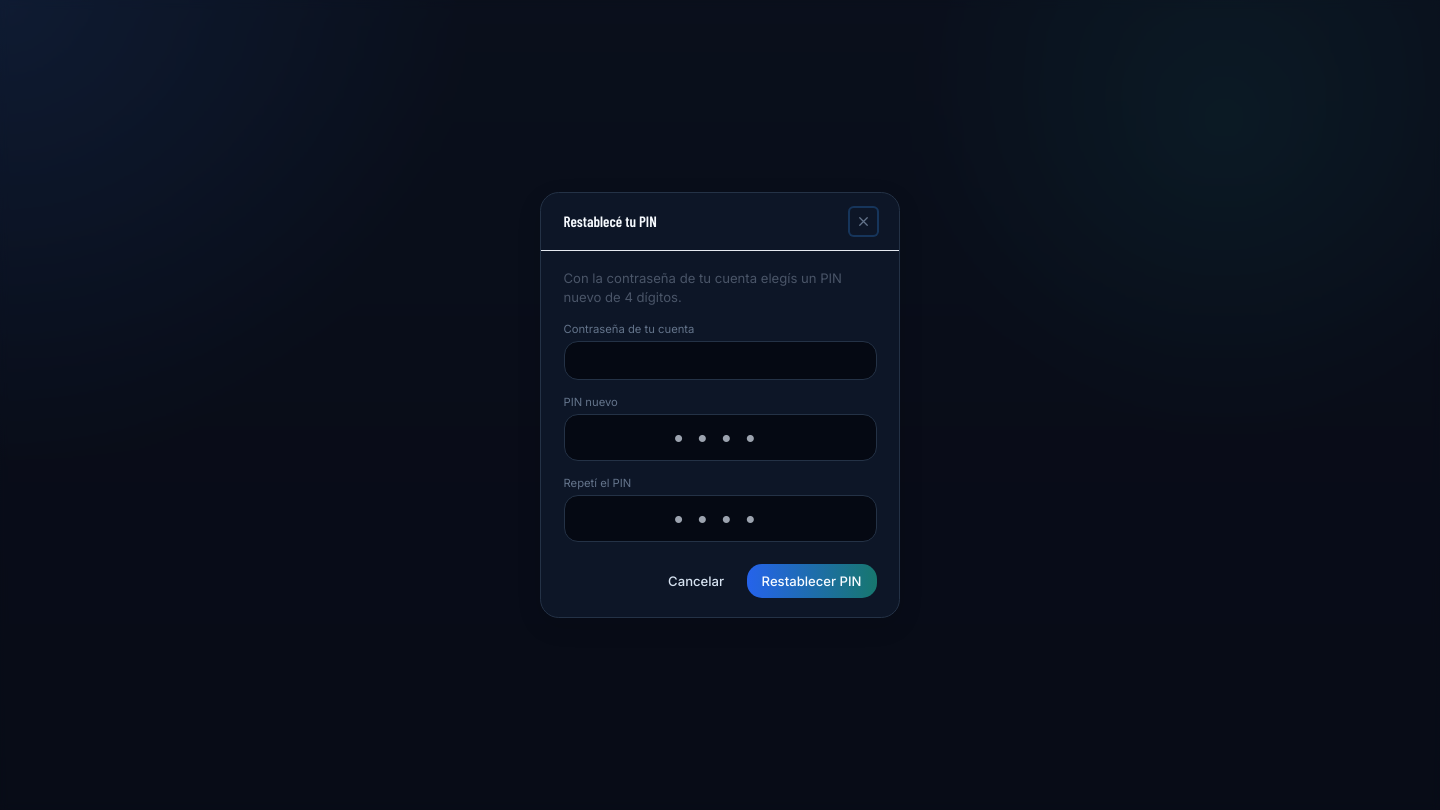
Test: una contraseña incorrecta se dice como tal y no cierra el modal
Check: the heading "Restablecé tu PIN" is shown, box top-left (564, 210), bottom-right (657, 233)
Step 1. Type "mala" into the password field labelled "Contraseña de tu cuenta" → (720,360), box top-left (564, 341), bottom-right (876, 380)
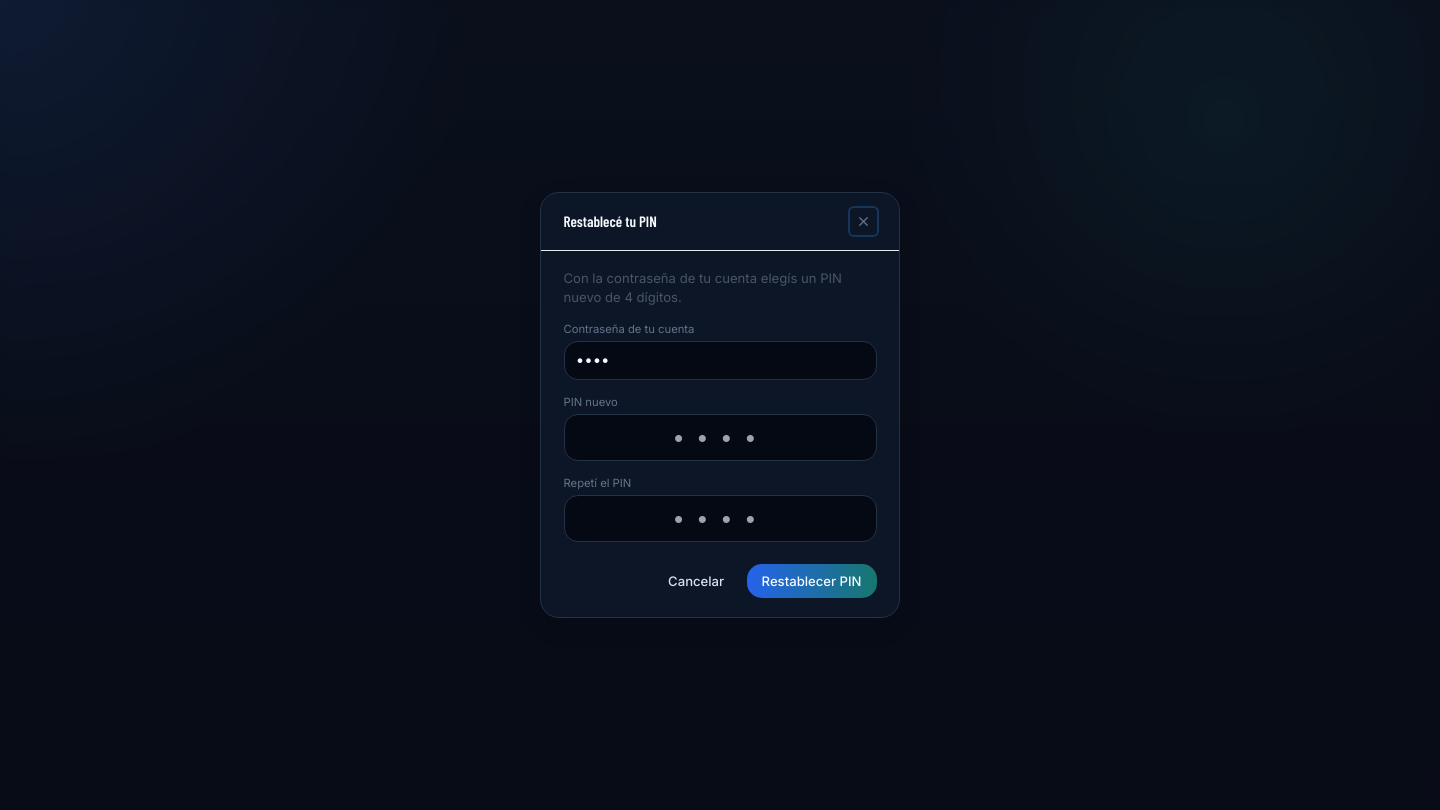
Step 2. Type "4321" into the password field labelled "PIN nuevo" → (720,437), box top-left (564, 414), bottom-right (876, 461)
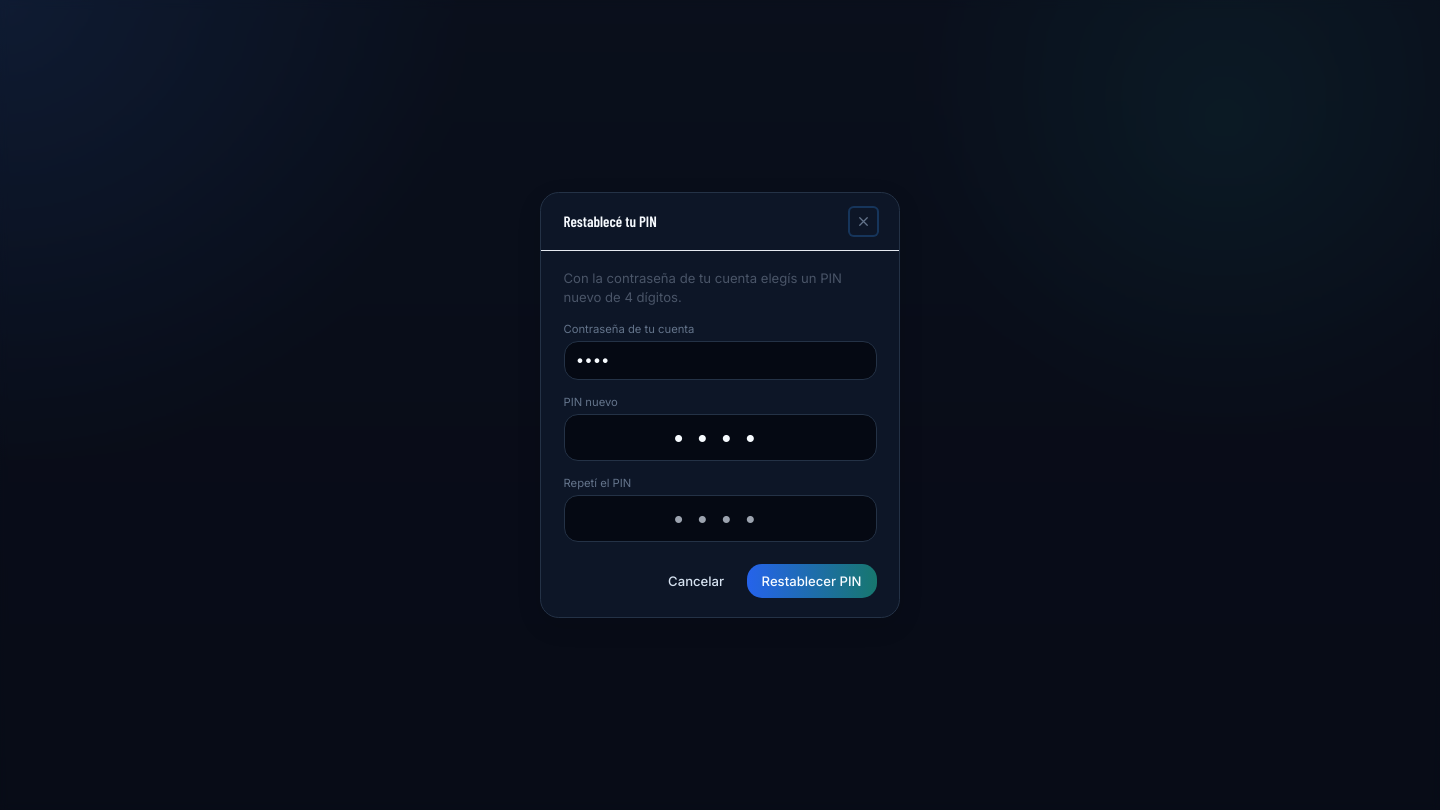
Step 3. Type "4321" into the password field labelled "Repetí el PIN" → (720,518), box top-left (564, 495), bottom-right (876, 542)
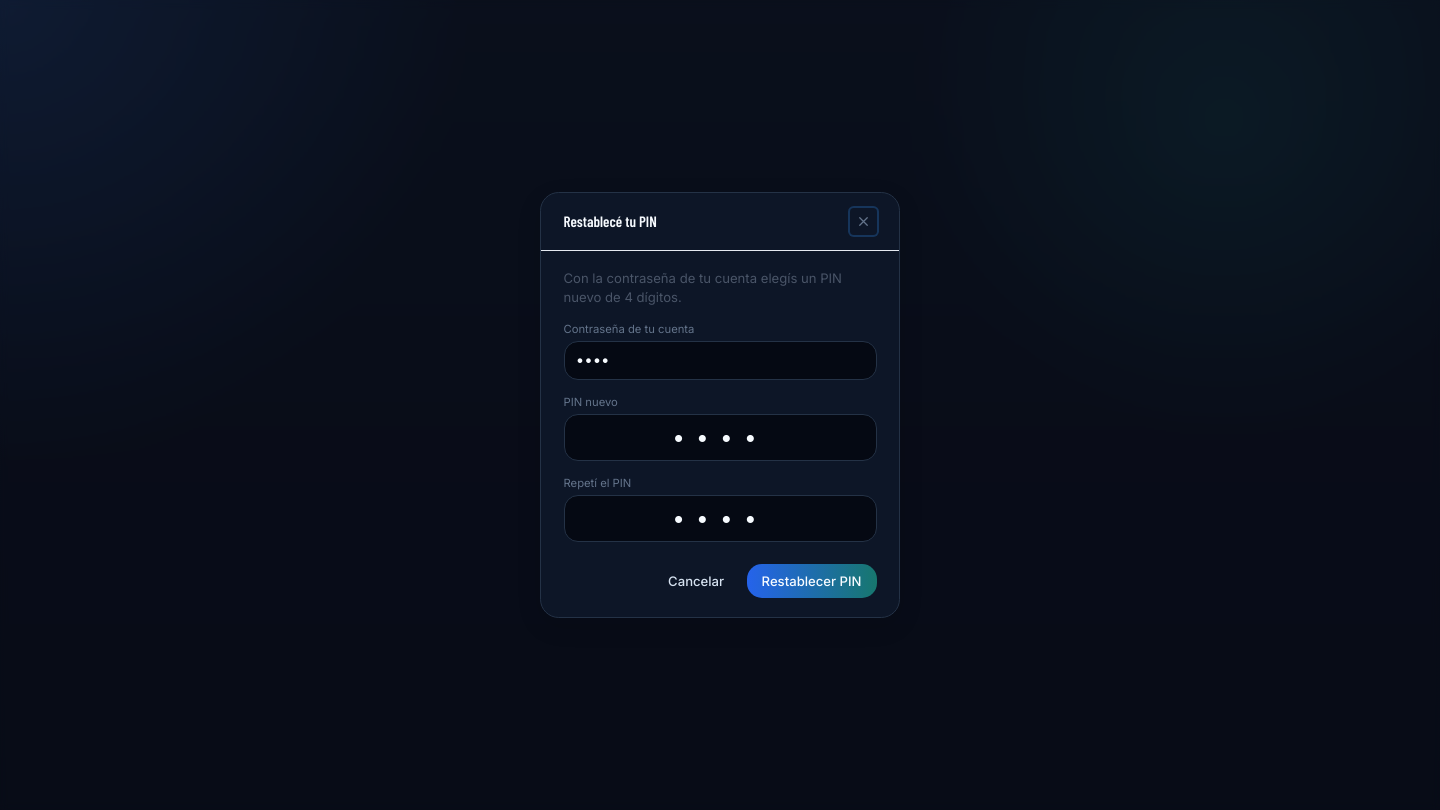
Step 4. Click the button "Restablecer PIN" → (812,581), box top-left (747, 564), bottom-right (876, 598)
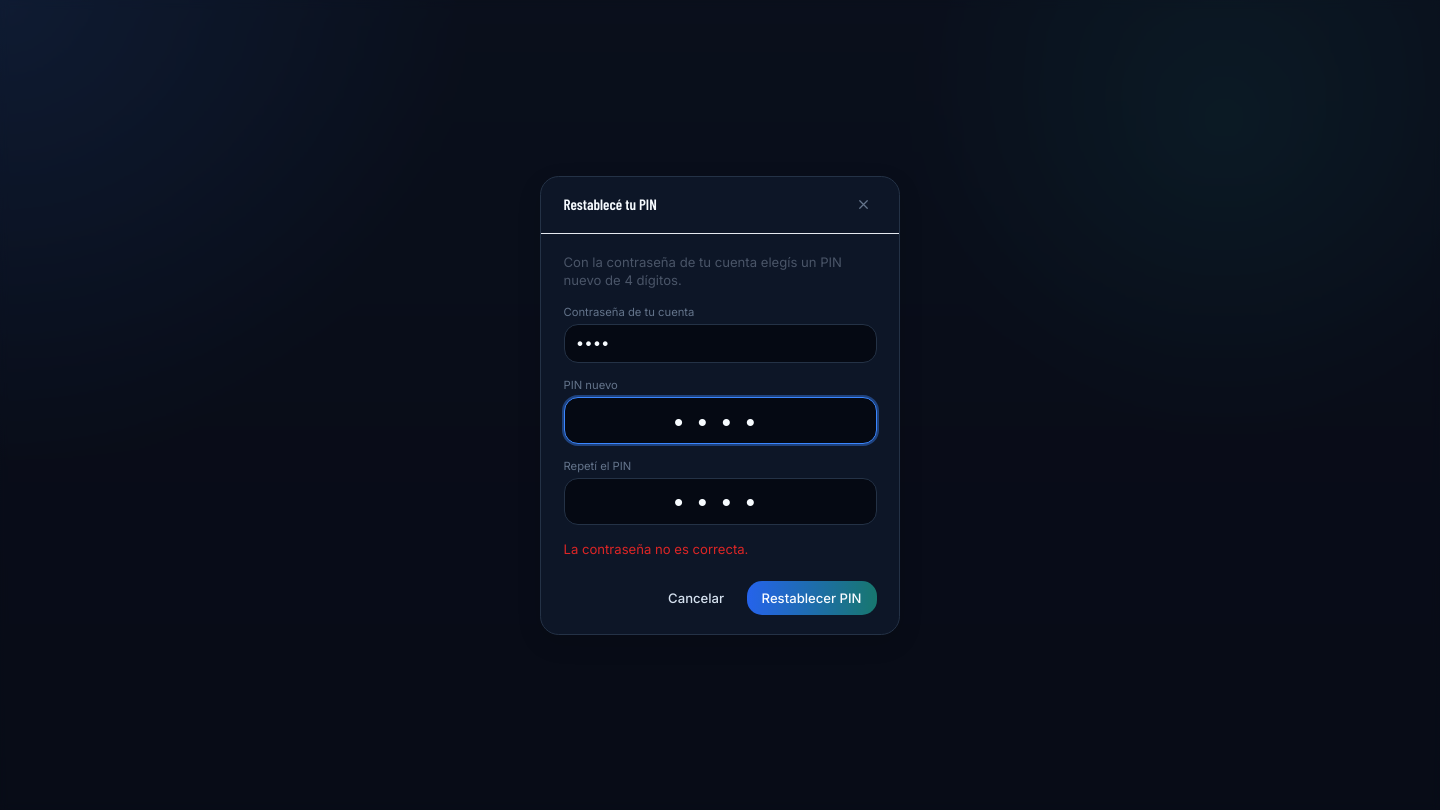
Check: the text "La contraseña no es correcta." is shown, box top-left (564, 541), bottom-right (748, 557)
